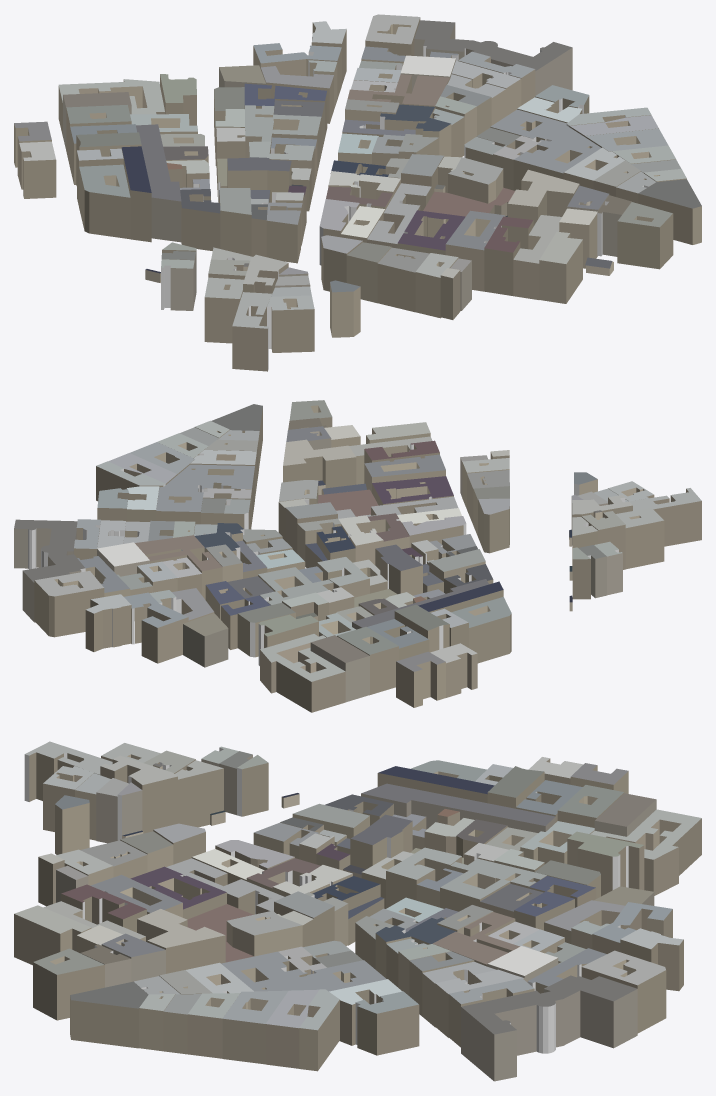
The picture shows the model from 3 angles, top to bottom: view 1: azimuth 30°, elevation 25°; view 2: azimuth 150°, elevation 25°; view 3: azimuth 270°, elevation 25°; orthographic projection. The views are drawn at different scales.
Visible parts, largest first — view 1: tuile; view 2: tuile; view 3: tuile.
Part boxes in pixels (x1,y1,x2,y2): tuile: (14, 14, 701, 371); tuile: (14, 400, 701, 712); tuile: (14, 741, 701, 1081).
Bounding box in the file's own units: 283 × 27.84 × 284.
